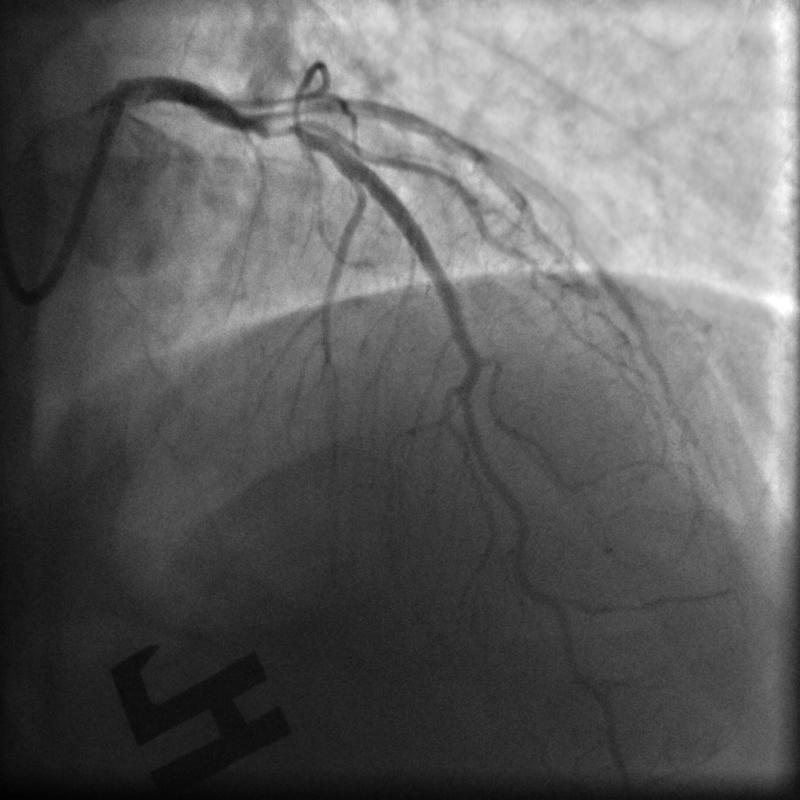Stenosis: (242, 109, 305, 142)
